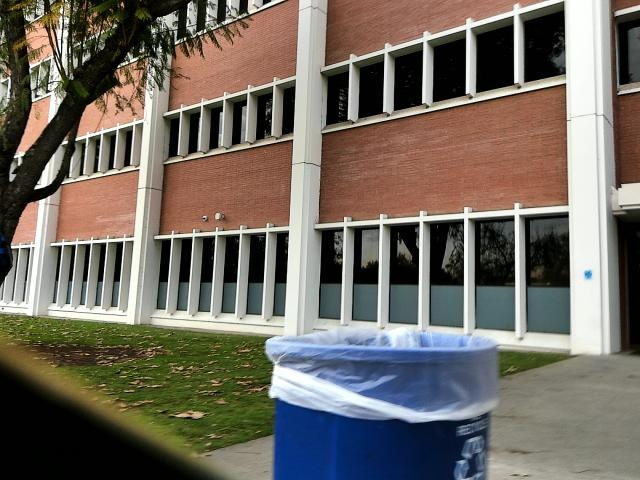trashcan_open: (262, 324, 500, 480)
